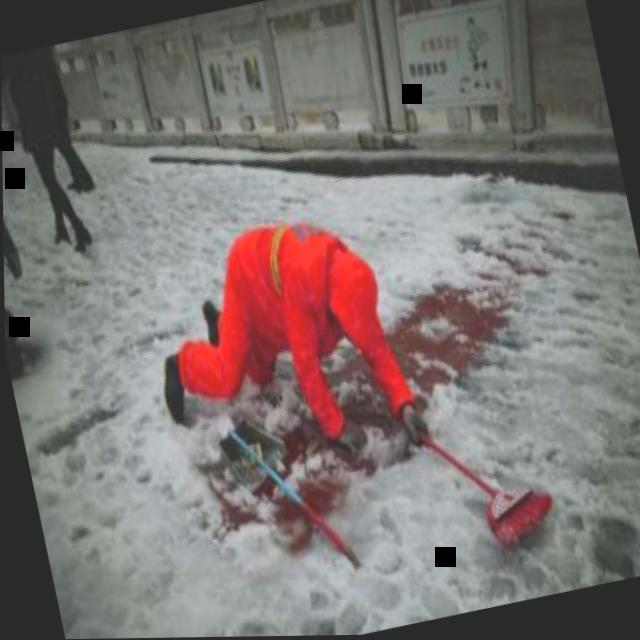Fall-Detected: (123, 174, 447, 507)
